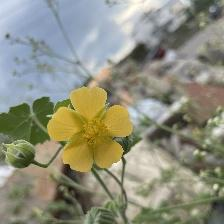indian mallow: (48, 87, 135, 174)
